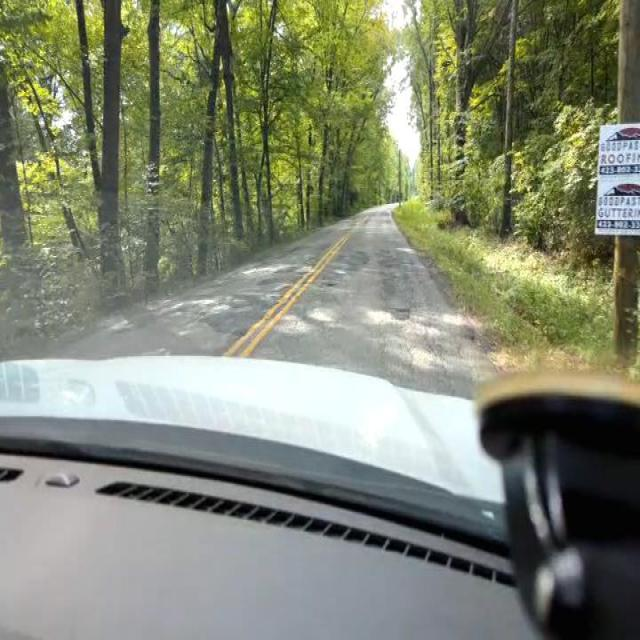pothole: (318, 278, 344, 290)
